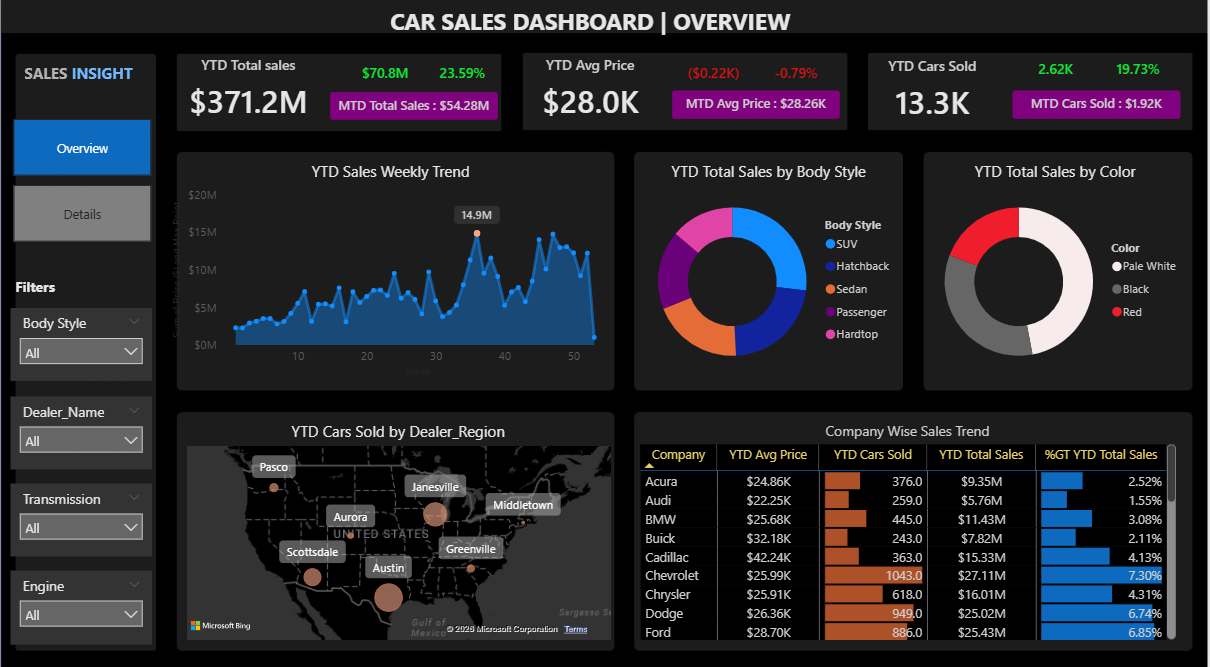

The page's visual inventory and layout, read from the dashboard file:
{"tool":"powerbi","page":{"name":"Overview","canvas":[1280,720],"ordinal":0},"visuals":[{"type":"card","title":"YTD Total sales","fields":{"Values":["car_data.Total Sales"]},"box":[176.6,62,173.4,77.9],"z":0},{"type":"card","title":"YTD Total sales","fields":{"Values":["car_data.Sales difference"]},"box":[364.2,62,87.5,42.9],"z":1000},{"type":"card","title":"YTD Total sales","fields":{"Values":["car_data.YOY Sales Growth"]},"box":[451.7,62,76.3,42.9],"z":2000},{"type":"card","fields":{"Values":["car_data.MTD KPI"]},"box":[349.9,101.8,178.1,29],"z":3000},{"type":"card","title":"YTD Avg Price","fields":{"Values":["car_data.YTD Avg Price"]},"box":[539.2,62,173.4,77.9],"z":4000},{"type":"card","title":"YTD Total sales","fields":{"Values":["car_data.Avg Price Diff"]},"box":[712.6,62,87.5,42.9],"z":5000},{"type":"card","title":"YTD Total sales","fields":{"Values":["car_data.YOY Avg Price Growth"]},"box":[800.1,62,87.5,42.9],"z":6000},{"type":"card","fields":{"Values":["car_data.MTD Avg Price KPI"]},"box":[712.6,100.2,178.1,30.2],"z":7000},{"type":"card","title":"YTD Cars Sold","fields":{"Values":["car_data.YTD Cars Sold"]},"box":[901.9,63.6,173.4,77.9],"z":8000},{"type":"card","title":"YTD Total sales","fields":{"Values":["car_data.Cars Sold Diff"]},"box":[1075.3,57.3,87.5,42.9],"z":9000},{"type":"card","title":"YTD Total sales","fields":{"Values":["car_data.YOY Cars Sold Growth"]},"box":[1162.7,57.3,87.5,42.9],"z":10000},{"type":"card","fields":{"Values":["car_data.MTD Cars Sold KPI"]},"box":[1073.7,100.2,178.1,30.2],"z":11000},{"type":"areaChart","title":"YTD Sales Weekly Trend","fields":{"Category":["Calendar Table.Week"],"Y":["Sum(car_data.Price ($))","car_data.Max Point"]},"box":[176.6,175,475.6,233.8],"z":12000},{"type":"donutChart","fields":{"Category":["car_data.Body Style"],"Y":["car_data.YTD Total Sales"]},"box":[672.8,175,284.7,233.8],"z":13000},{"type":"donutChart","fields":{"Y":["car_data.YTD Total Sales"],"Category":["car_data.Color"]},"box":[976.6,175,284.7,233.8],"z":14000},{"type":"map","fields":{"Category":["car_data.Dealer_Region"],"Size":["car_data.YTD Cars Sold"]},"box":[192.5,450.1,459.7,237],"z":15000},{"type":"tableEx","title":"Company Wise Sales Trend","fields":{"Values":["car_data.Company","car_data.YTD Avg Price","car_data.YTD Cars Sold","car_data.YTD Total Sales1","car_data.YTD Total Sales"]},"box":[672.8,450.1,579,237],"z":16000},{"type":"textbox","box":[408.8,4.8,439,52.5],"z":17000},{"type":"slicer","fields":{"Values":["car_data.Body Style"]},"box":[11.2,331.2,150,77.5],"z":18000},{"type":"slicer","fields":{"Values":["car_data.Dealer_Name"]},"box":[11.2,425,150,77.5],"z":19000},{"type":"slicer","fields":{"Values":["car_data.Transmission"]},"box":[11.2,517.5,150,77.5],"z":20000},{"type":"slicer","fields":{"Values":["car_data.Engine"]},"box":[11.2,608.8,150,78.8],"z":21000},{"type":"textbox","box":[11.1,292.7,70,31.8],"z":22000},{"type":"pageNavigator","box":[15,130,146.7,130],"z":22001},{"type":"textbox","box":[20,65,135,40],"z":22002}]}

Visuals, with their boxes in screenshot pixels (x1, y1, x2, y2), scaled from the page's 1280x720 canvas onto the 1210x667 screenshot:
"YTD Total sales" card: {"left": 167, "top": 57, "right": 331, "bottom": 130}
"YTD Total sales" card: {"left": 344, "top": 57, "right": 427, "bottom": 97}
"YTD Total sales" card: {"left": 427, "top": 57, "right": 499, "bottom": 97}
card - car_data.MTD KPI: {"left": 331, "top": 94, "right": 499, "bottom": 121}
"YTD Avg Price" card: {"left": 510, "top": 57, "right": 674, "bottom": 130}
"YTD Total sales" card: {"left": 674, "top": 57, "right": 756, "bottom": 97}
"YTD Total sales" card: {"left": 756, "top": 57, "right": 839, "bottom": 97}
card - car_data.MTD Avg Price KPI: {"left": 674, "top": 93, "right": 842, "bottom": 121}
"YTD Cars Sold" card: {"left": 853, "top": 59, "right": 1016, "bottom": 131}
"YTD Total sales" card: {"left": 1016, "top": 53, "right": 1099, "bottom": 93}
"YTD Total sales" card: {"left": 1099, "top": 53, "right": 1182, "bottom": 93}
card - car_data.MTD Cars Sold KPI: {"left": 1015, "top": 93, "right": 1183, "bottom": 121}
"YTD Sales Weekly Trend" areaChart: {"left": 167, "top": 162, "right": 617, "bottom": 379}
donutChart - car_data.Body Style x car_data.YTD Total Sales: {"left": 636, "top": 162, "right": 905, "bottom": 379}
donutChart - car_data.YTD Total Sales x car_data.Color: {"left": 923, "top": 162, "right": 1192, "bottom": 379}
map - car_data.Dealer_Region x car_data.YTD Cars Sold: {"left": 182, "top": 417, "right": 617, "bottom": 637}
"Company Wise Sales Trend" tableEx: {"left": 636, "top": 417, "right": 1183, "bottom": 637}
textbox: {"left": 386, "top": 4, "right": 801, "bottom": 53}
slicer - car_data.Body Style: {"left": 11, "top": 307, "right": 152, "bottom": 379}
slicer - car_data.Dealer_Name: {"left": 11, "top": 394, "right": 152, "bottom": 466}
slicer - car_data.Transmission: {"left": 11, "top": 479, "right": 152, "bottom": 551}
slicer - car_data.Engine: {"left": 11, "top": 564, "right": 152, "bottom": 637}
textbox: {"left": 10, "top": 271, "right": 77, "bottom": 301}
pageNavigator: {"left": 14, "top": 120, "right": 153, "bottom": 241}
textbox: {"left": 19, "top": 60, "right": 147, "bottom": 97}
